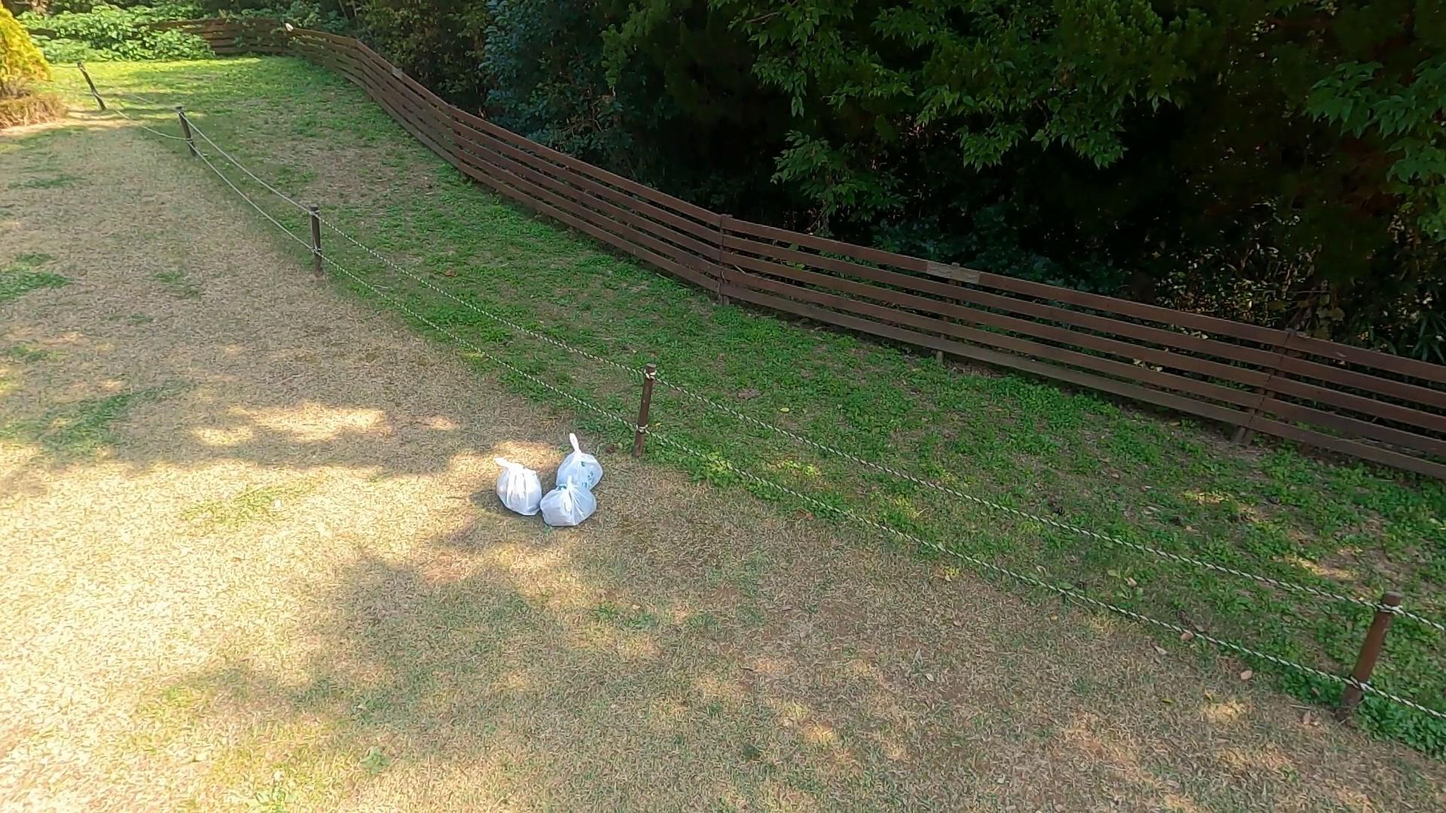trash: (538, 472, 599, 528), (554, 432, 605, 498), (493, 455, 542, 516)
